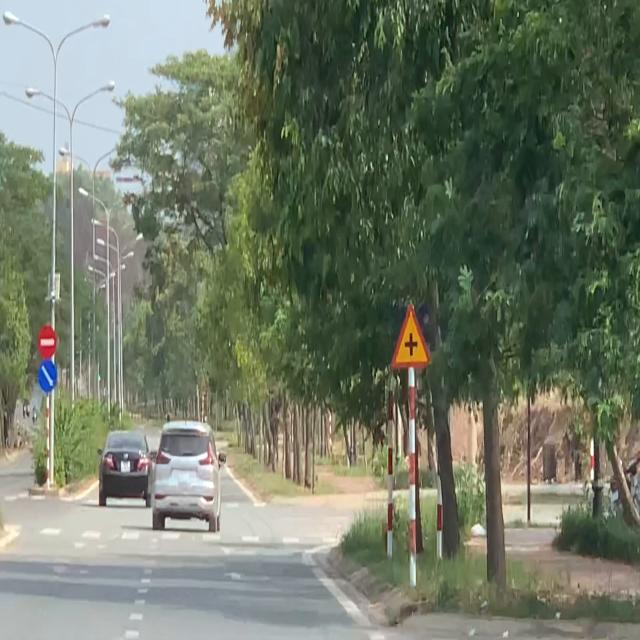Cam nguoc chieu: (38, 325, 56, 359)
Duong giao nhau: (390, 302, 431, 369)
Hieu lenh: (38, 359, 58, 393)
